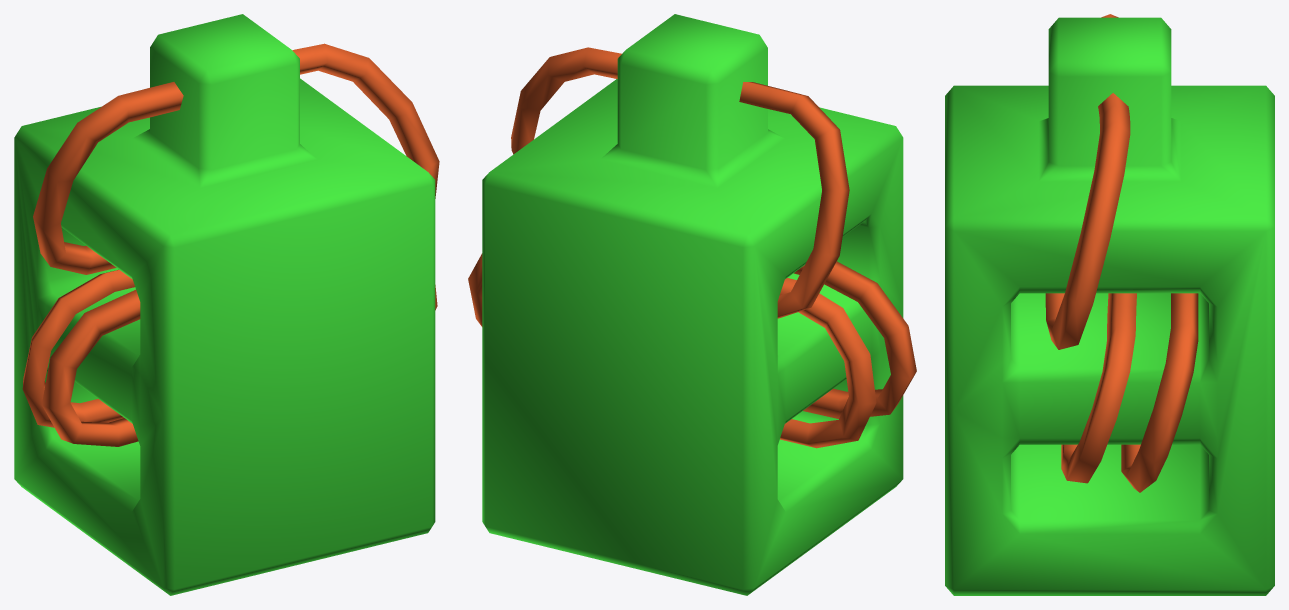
Rendered from fusion2.gltf.
The picture shows the model from 3 angles, left to right: view 1: azimuth 30°, elevation 25°; view 2: azimuth 150°, elevation 25°; view 3: azimuth 270°, elevation 25°; orthographic projection. The views are drawn at different scales.
Visible parts, largest first — view 1: Cube, BezierCurve; view 2: Cube, BezierCurve; view 3: Cube, BezierCurve.
Boxes of the visible parts, x1,y1,x2,y2 form: Cube: (14,14,435,595); BezierCurve: (22,43,439,446); Cube: (482,14,903,595); BezierCurve: (468,47,916,448); Cube: (945,17,1274,595); BezierCurve: (1045,14,1198,492).
Bounding box in the file's own units: 2.24 × 2.49 × 1.52.
